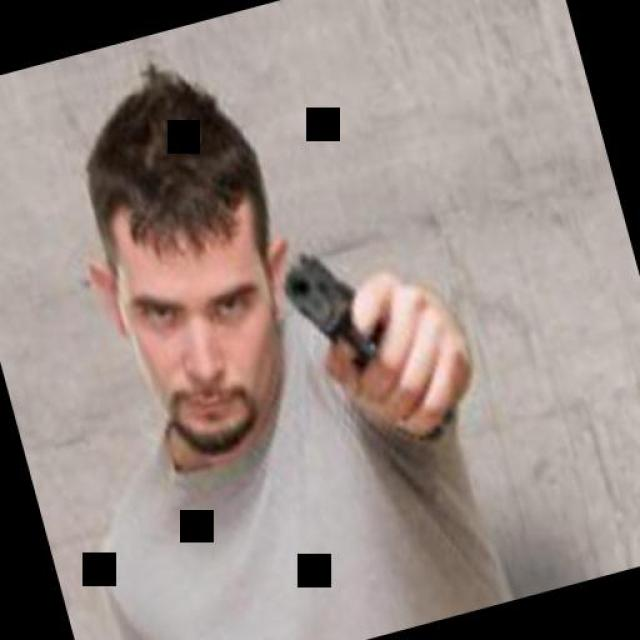gun: (266, 232, 390, 376)
